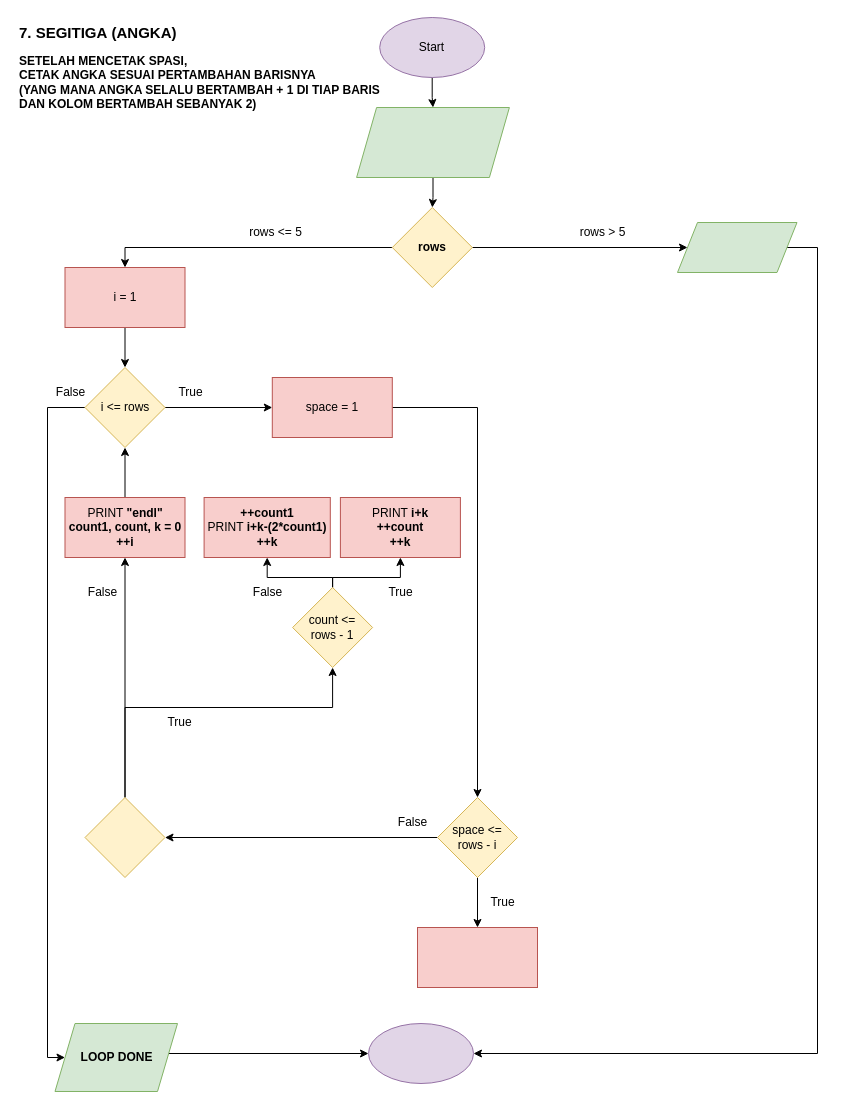
Image size: 843x1109. Some labels were removed from this diagram. Each missing label, with the box of its shape:
End: (368, 1022, 474, 1084)
INPUT rows DECLARE count1 = 0 DECLARE count = 0 DECLARE k = 0: (356, 106, 509, 178)
k != (2*i)-1: (84, 796, 165, 878)
PRINT " " ++space: (416, 926, 538, 988)
PRINT "ONLY 5 ROWS MAX": (676, 222, 797, 272)
